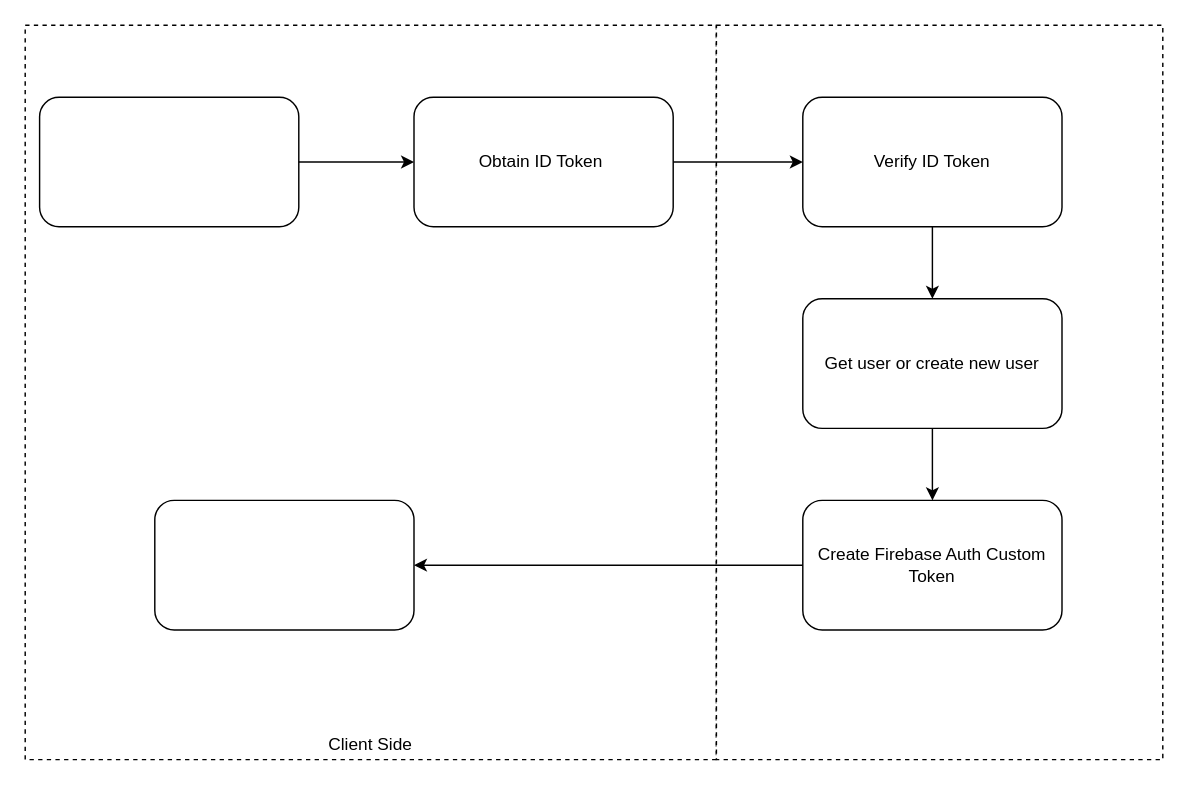
Image size: 1188x785. Some labels were removed from this diagram. The box of each missing label's shape, as (x1, y1, x2, y2) in pixels:
Login with custom token using Firebase Auth: (153, 499, 414, 630)
Request Authorization Code: (38, 96, 299, 227)
Server Side: (715, 24, 1163, 760)
